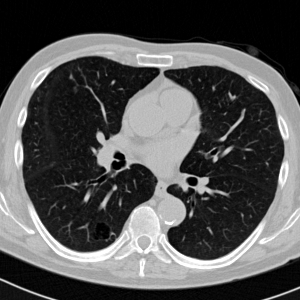nodule: (69, 75, 73, 79)
